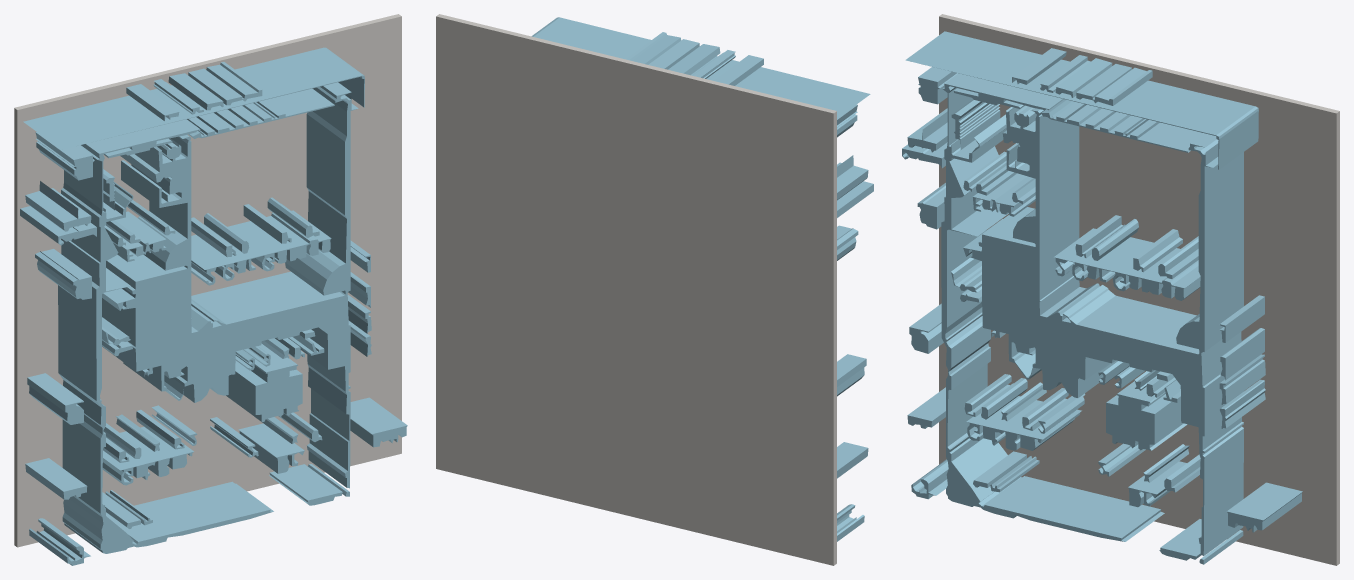
3 views of the same model, side by side, from view 1: azimuth 30°, elevation 25°; view 2: azimuth 150°, elevation 25°; view 3: azimuth 330°, elevation 25° (orthographic). The views are drawn at different scales.
Visible parts, largest first — view 1: world; view 2: world; view 3: world.
Part boxes in pixels (x1,y1,x2,y2): world: [14, 14, 407, 565]; world: [436, 14, 873, 565]; world: [902, 14, 1339, 565].
Size of the model in its own units: 10.23 by 11.12 by 1.91.
